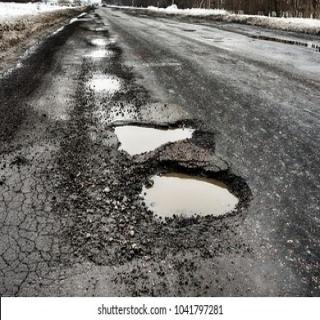pothole: (125, 160, 252, 230), (111, 122, 196, 157)
